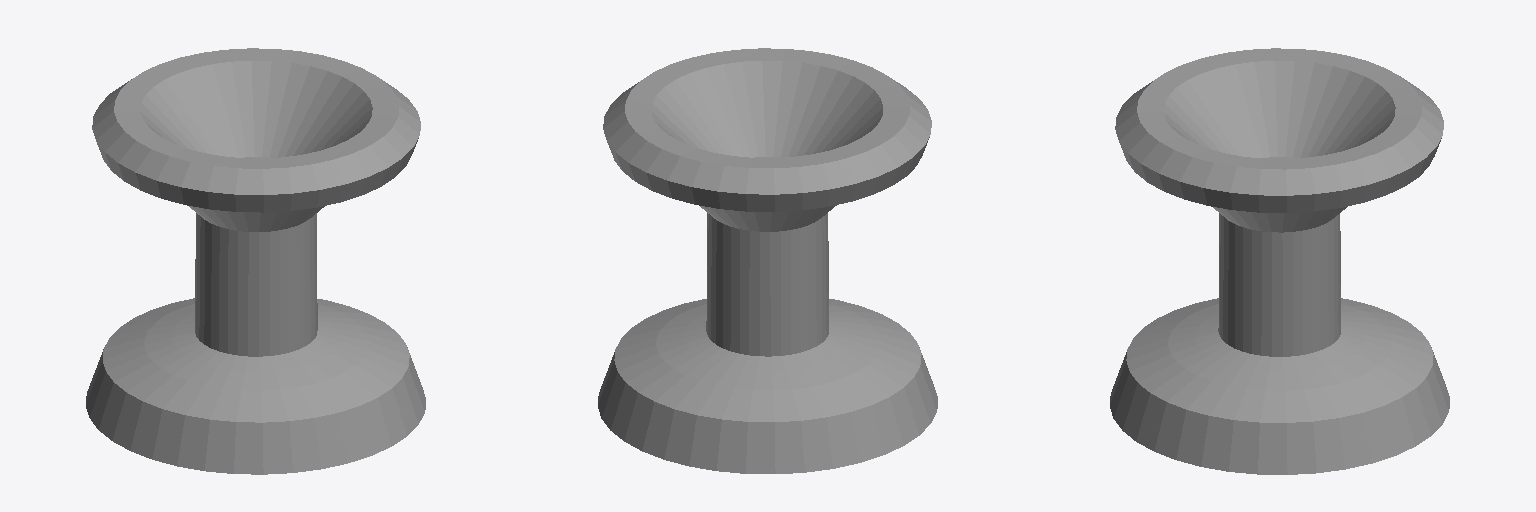
Rendered from whitequeen.obj.
3 renders of one model, left to right at view 1: azimuth 30°, elevation 25°; view 2: azimuth 150°, elevation 25°; view 3: azimuth 270°, elevation 25°, orthographic.
Visible parts, largest first — view 1: Cube; view 2: Cube; view 3: Cube.
Part boxes in pixels (x1,y1,x2,y2): Cube: (86,48,425,474); Cube: (598,48,937,473); Cube: (1110,48,1449,474).
Bounding box in the file's own units: 3.99 × 3.81 × 3.99.